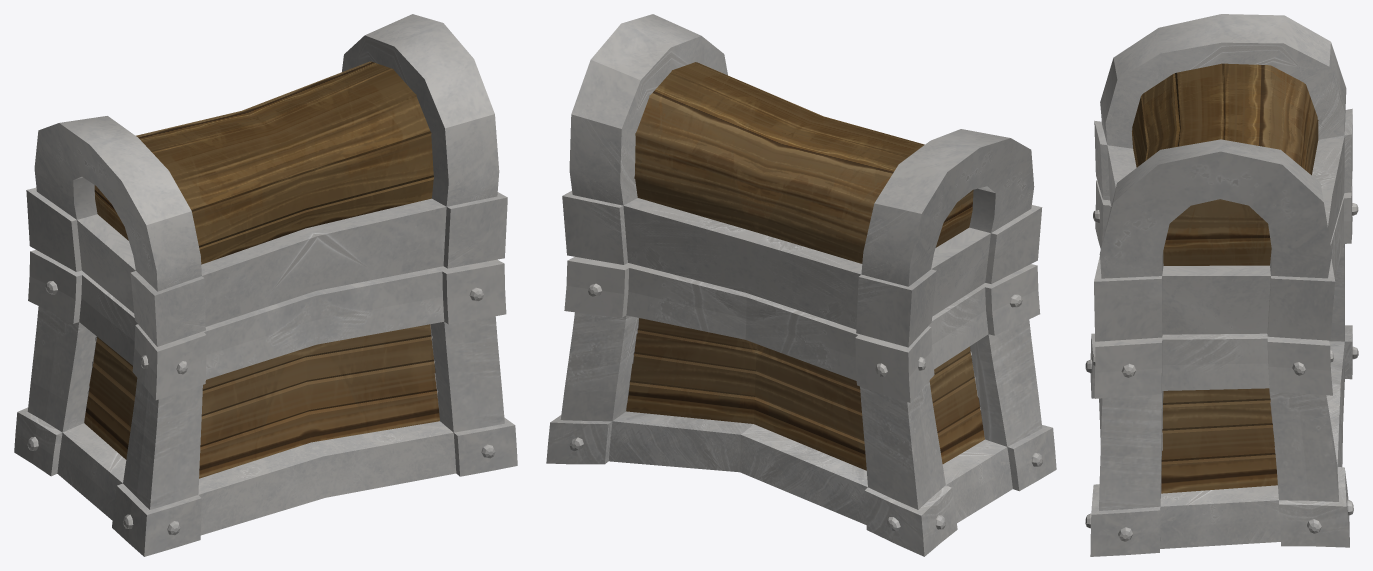
Rendered from Loops2.glb.
3 views of the same model, side by side, from view 1: azimuth 30°, elevation 25°; view 2: azimuth 150°, elevation 25°; view 3: azimuth 270°, elevation 25° (orthographic).
Visible parts, largest first — view 1: Tampa; view 2: Tampa; view 3: Tampa.
Part boxes in pixels (x1=…): Tampa: x1=14, y1=14, x2=517, y2=556; Tampa: x1=546, y1=14, x2=1056, y2=556; Tampa: x1=1085, y1=14, x2=1358, y2=556.
Bounding box in the file's own units: 3.59 × 3.6 × 2.22.
Materials: 1 (1 with a texture image).
